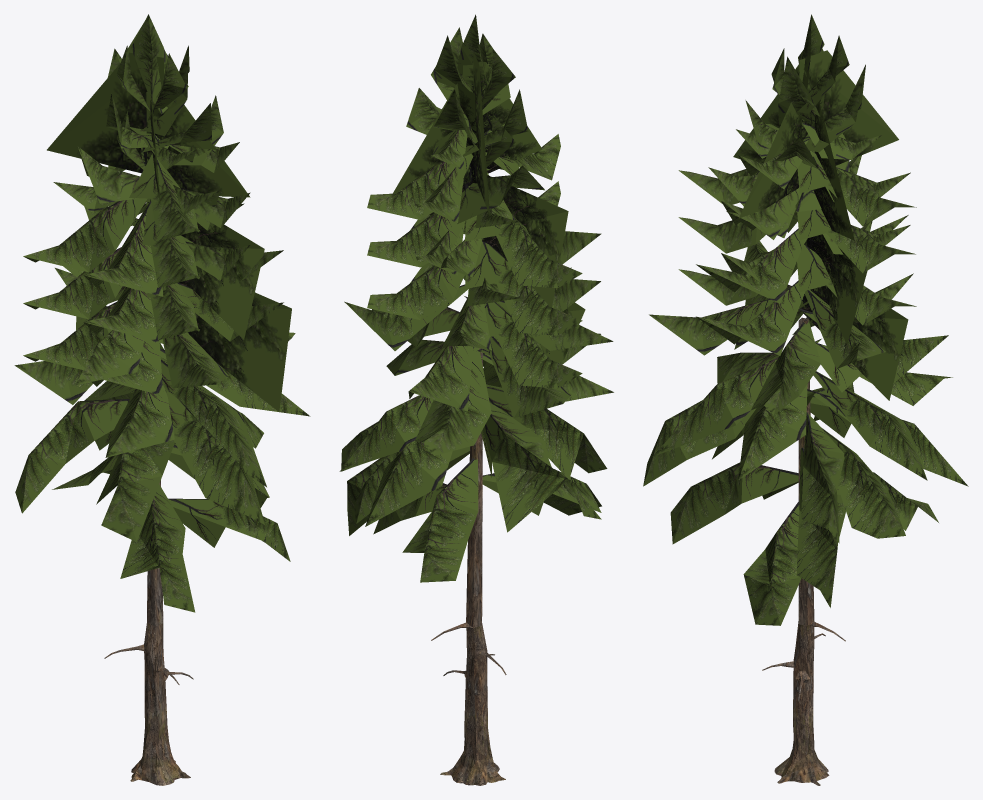
Rendered from spruce_4.dae.
The picture shows the model from 3 angles, left to right: view 1: azimuth 30°, elevation 25°; view 2: azimuth 150°, elevation 25°; view 3: azimuth 270°, elevation 25°; orthographic projection.
Visible parts, largest first — view 1: Mesh_Object; view 2: Mesh_Object; view 3: Mesh_Object.
Boxes of the visible parts, left/top/right/bottom form: Mesh_Object: left=14, top=14, right=310, bottom=785; Mesh_Object: left=339, top=14, right=613, bottom=785; Mesh_Object: left=643, top=14, right=968, bottom=785.
Size of the model in its own units: 4.21 by 12.13 by 4.73.
